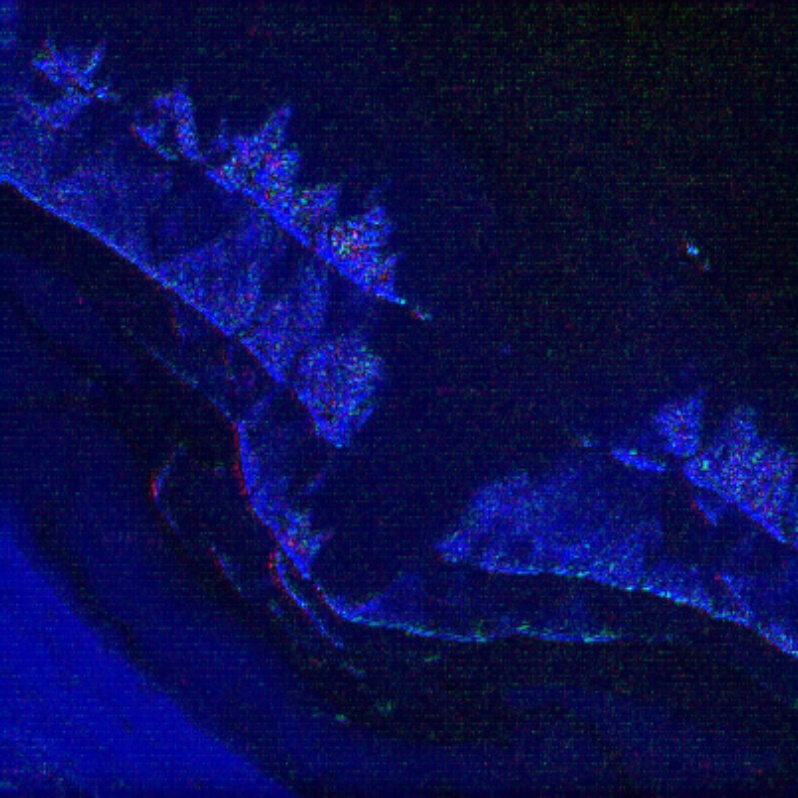rip_current: (258, 164, 633, 579)
